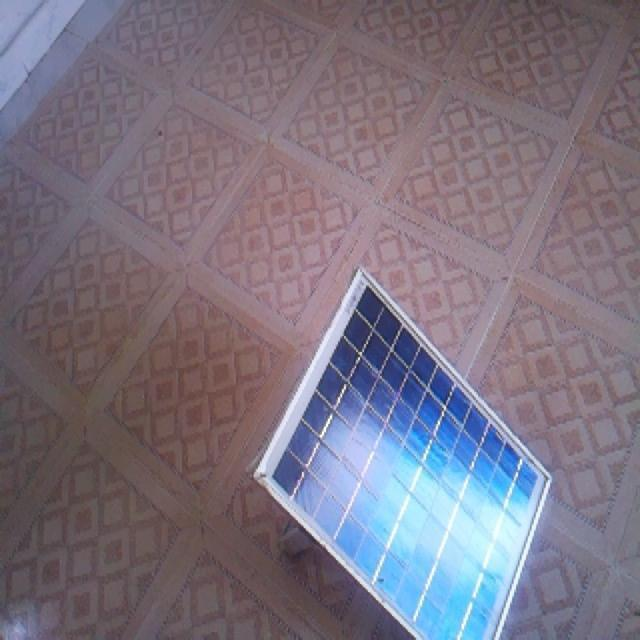Normal Solar Panel: (256, 269, 552, 640)
